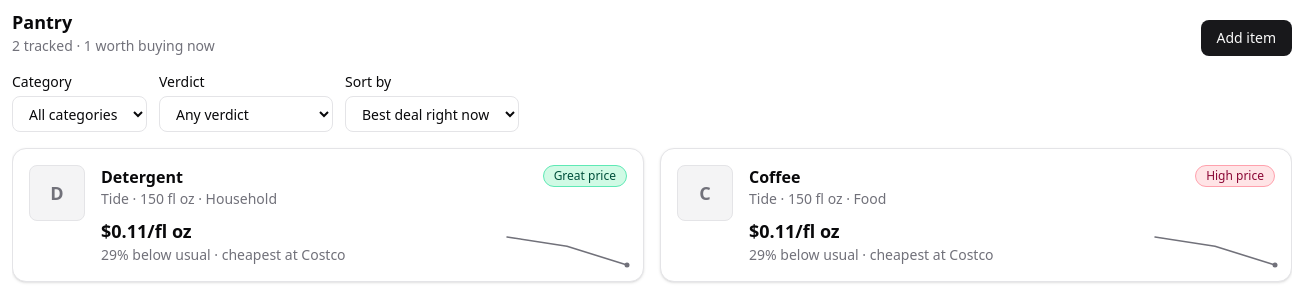
PantryList › filters by category and by verdict
Select "Food" in the dropdown labelled "Category" at (80, 114), box [12, 96, 147, 132]
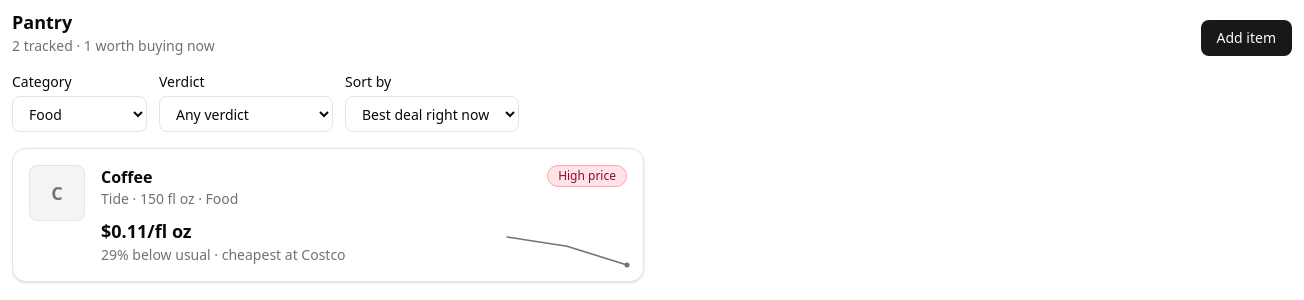
Check: the text "Coffee" is shown, box [101, 165, 152, 189]
Check: the text "Detergent" is gone
Select "All categories" in the dropdown labelled "Category" at (80, 114), box [12, 96, 147, 132]
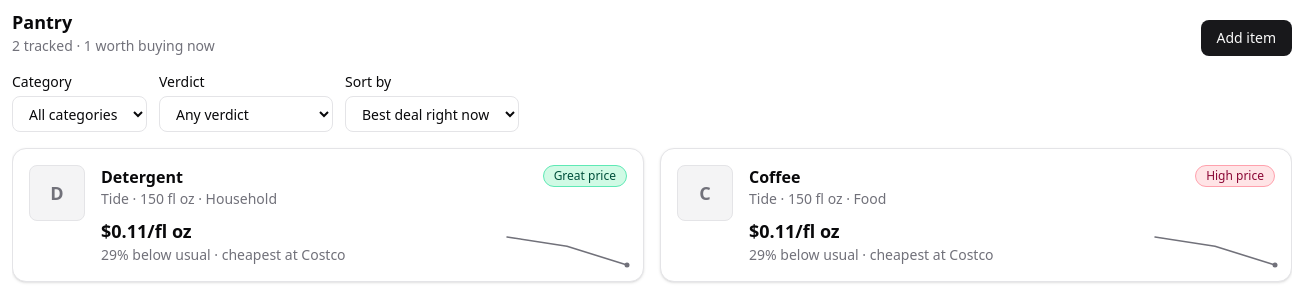
Select "Great price" in the dropdown labelled "Verdict" at (246, 114), box [159, 96, 333, 132]
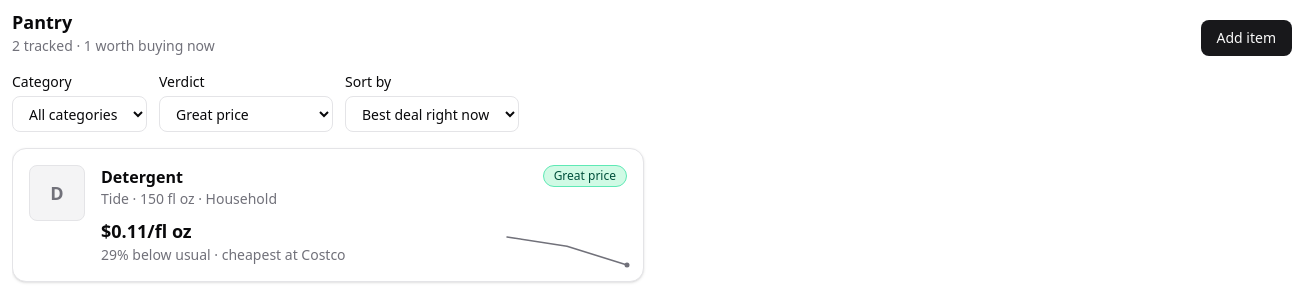
Check: the text "Detergent" is shown, box [101, 165, 183, 189]
Check: the text "Coffee" is gone
